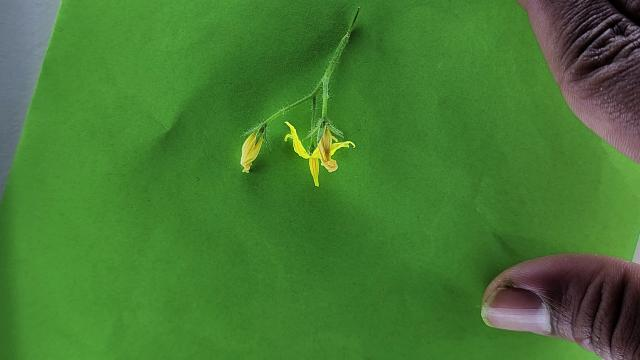Anthesis: (283, 119, 356, 187), (239, 126, 266, 174)
